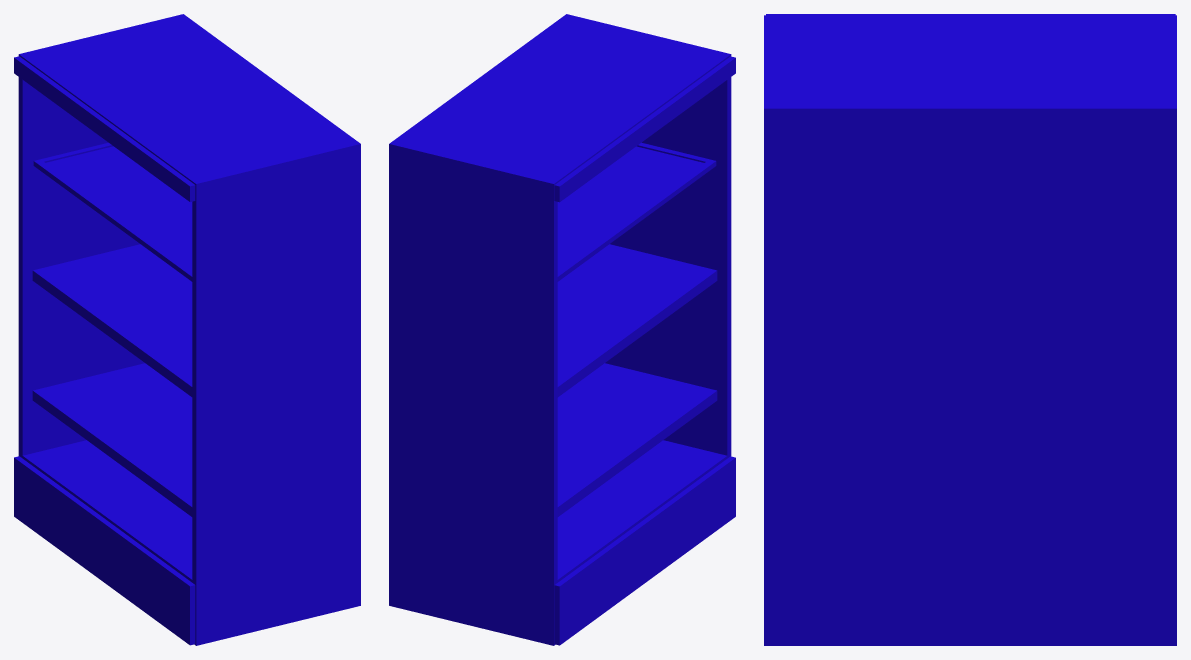
File: Bookshelf.fbx
3 renders of one model, left to right at view 1: azimuth 30°, elevation 25°; view 2: azimuth 150°, elevation 25°; view 3: azimuth 270°, elevation 25°, orthographic. The views are drawn at different scales.
Parts seen in each view (by area): view 1: SM_Shelf_C_01; view 2: SM_Shelf_C_01; view 3: SM_Shelf_C_01.
Boxes of the visible parts, left/top/right/bottom form: SM_Shelf_C_01: left=14, top=14, right=360, bottom=645; SM_Shelf_C_01: left=389, top=14, right=735, bottom=645; SM_Shelf_C_01: left=764, top=14, right=1176, bottom=645.
Bounding box in the file's own units: 87.21 × 226 × 158.
